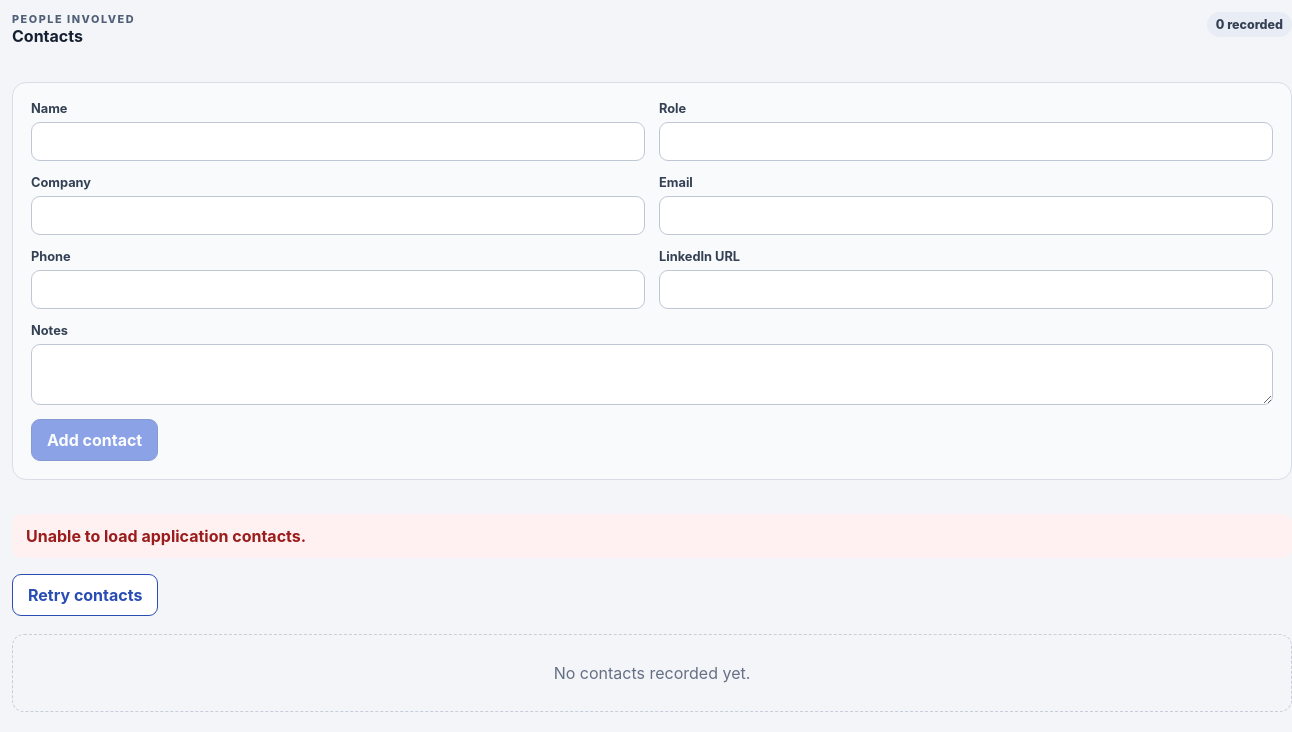
Scenario: ApplicationContacts › surfaces a load failure and retries explicitly
The image size is (1292, 732).
Expected: the message reads "Unable to load application contacts.", [26,526,306,546]
Click the button "Retry contacts" at (85, 595), box [12,574,158,616]
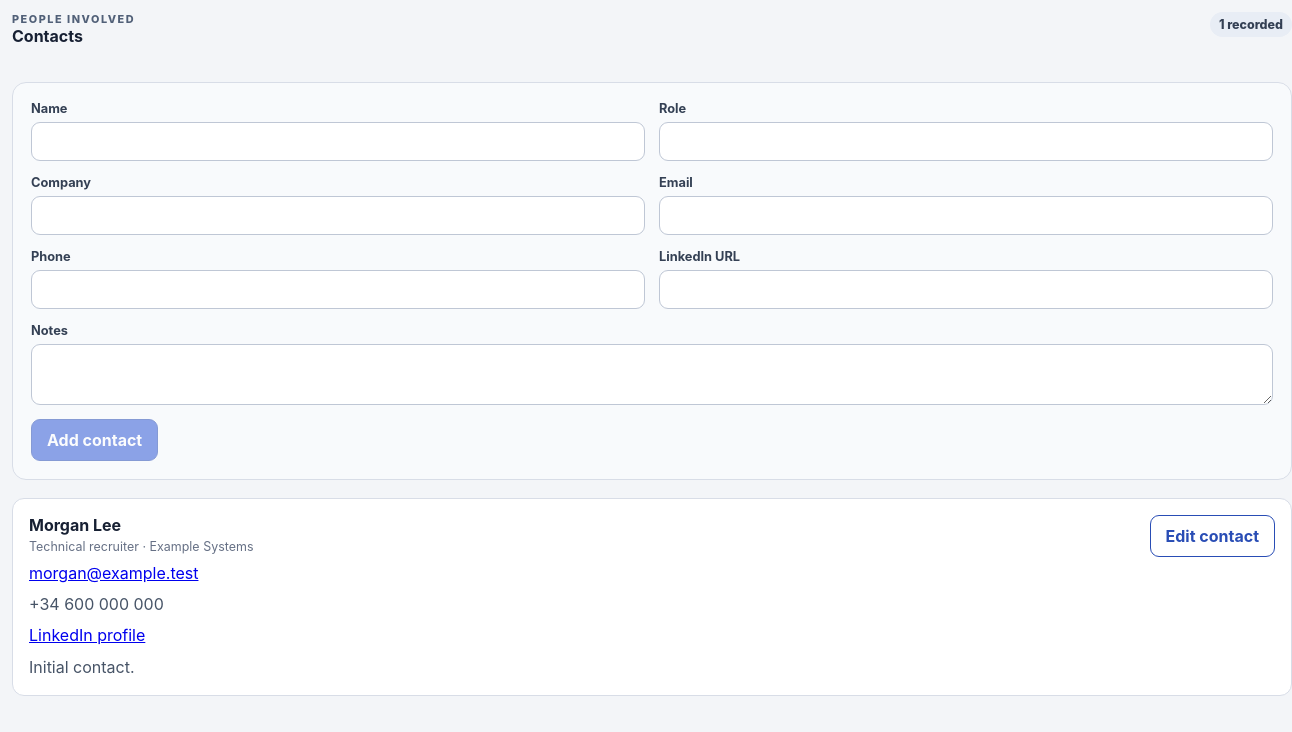
Expected: the text "Morgan Lee" is shown, [29,515,121,535]
